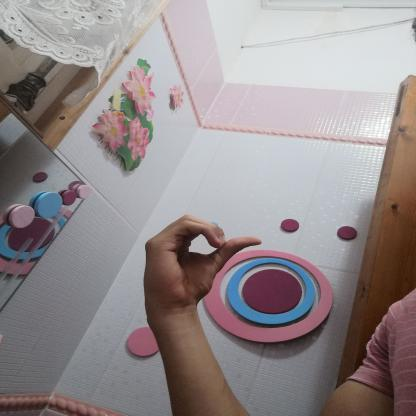WAW: (126, 207, 272, 321)
